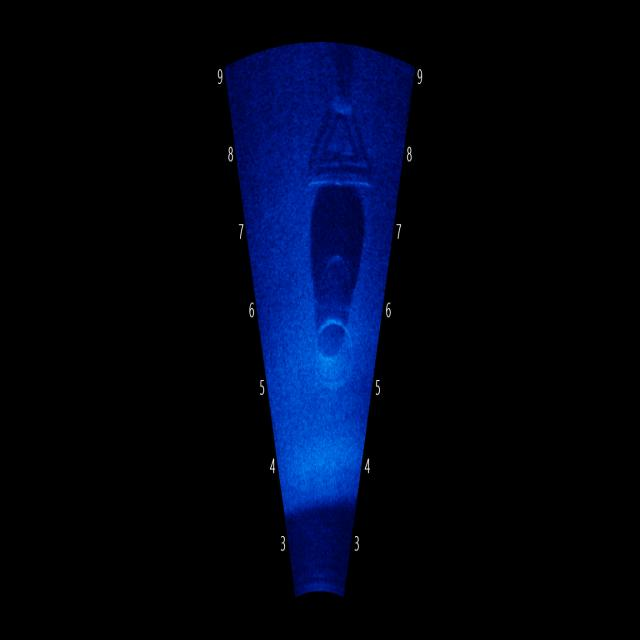circle: (302, 282, 356, 403)
triangle: (294, 74, 380, 206)
